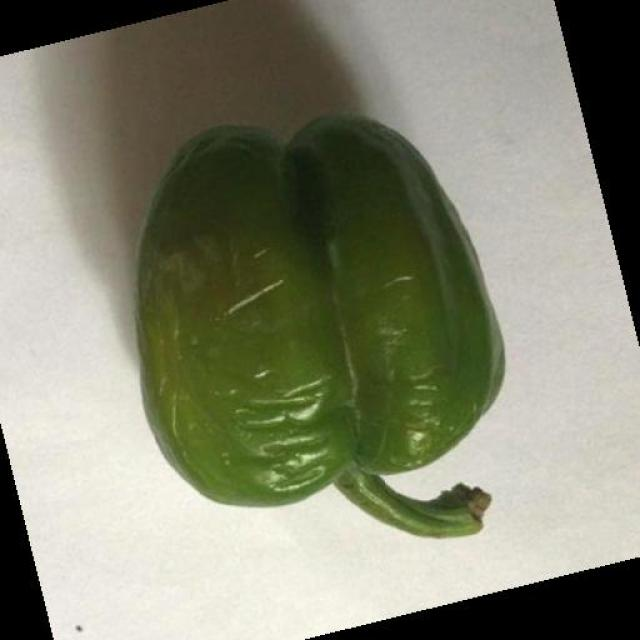Stale_Capsicum: (120, 104, 526, 482)
